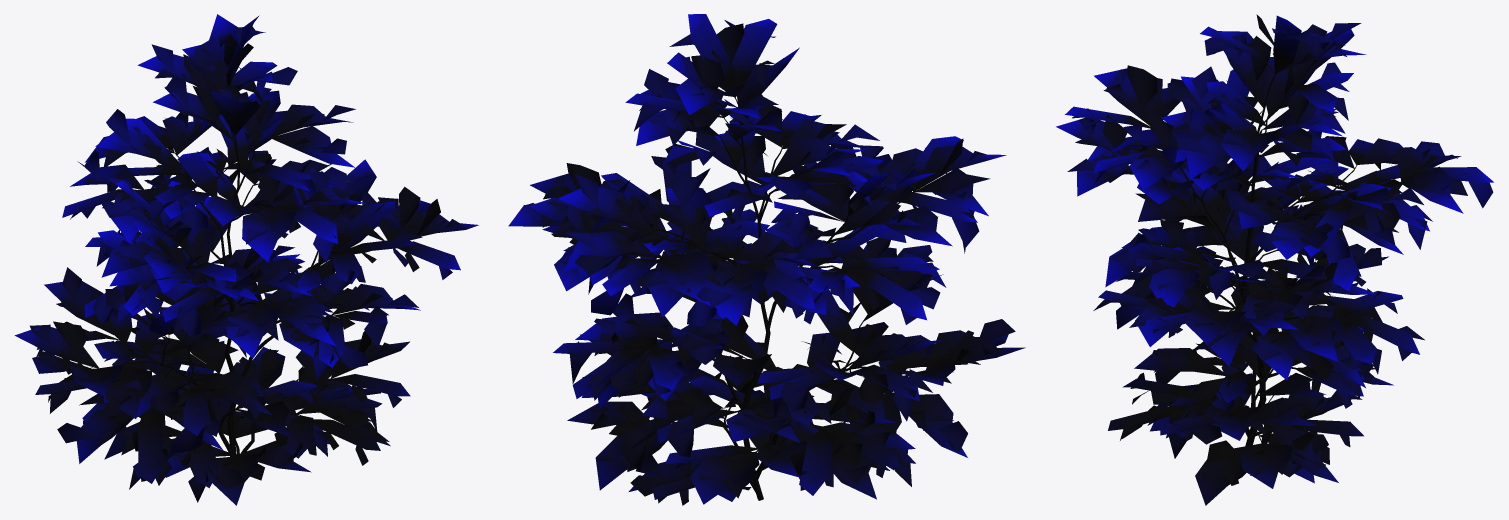
The model's file is SM_EuropeanBeech_01.fbx.
3 views of the same model, side by side, from view 1: azimuth 30°, elevation 25°; view 2: azimuth 150°, elevation 25°; view 3: azimuth 270°, elevation 25° (orthographic). The views are drawn at different scales.
Parts seen in each view (by area): view 1: SM_EuropeanBeech_01_LOD0; view 2: SM_EuropeanBeech_01_LOD0; view 3: SM_EuropeanBeech_01_LOD0.
Part boxes in pixels (box(x1,y1,x2,y2)): SM_EuropeanBeech_01_LOD0: box(14, 14, 478, 505); SM_EuropeanBeech_01_LOD0: box(508, 14, 1025, 505); SM_EuropeanBeech_01_LOD0: box(1056, 14, 1493, 505).
Bounding box in the file's own units: 339 × 281 × 320.
